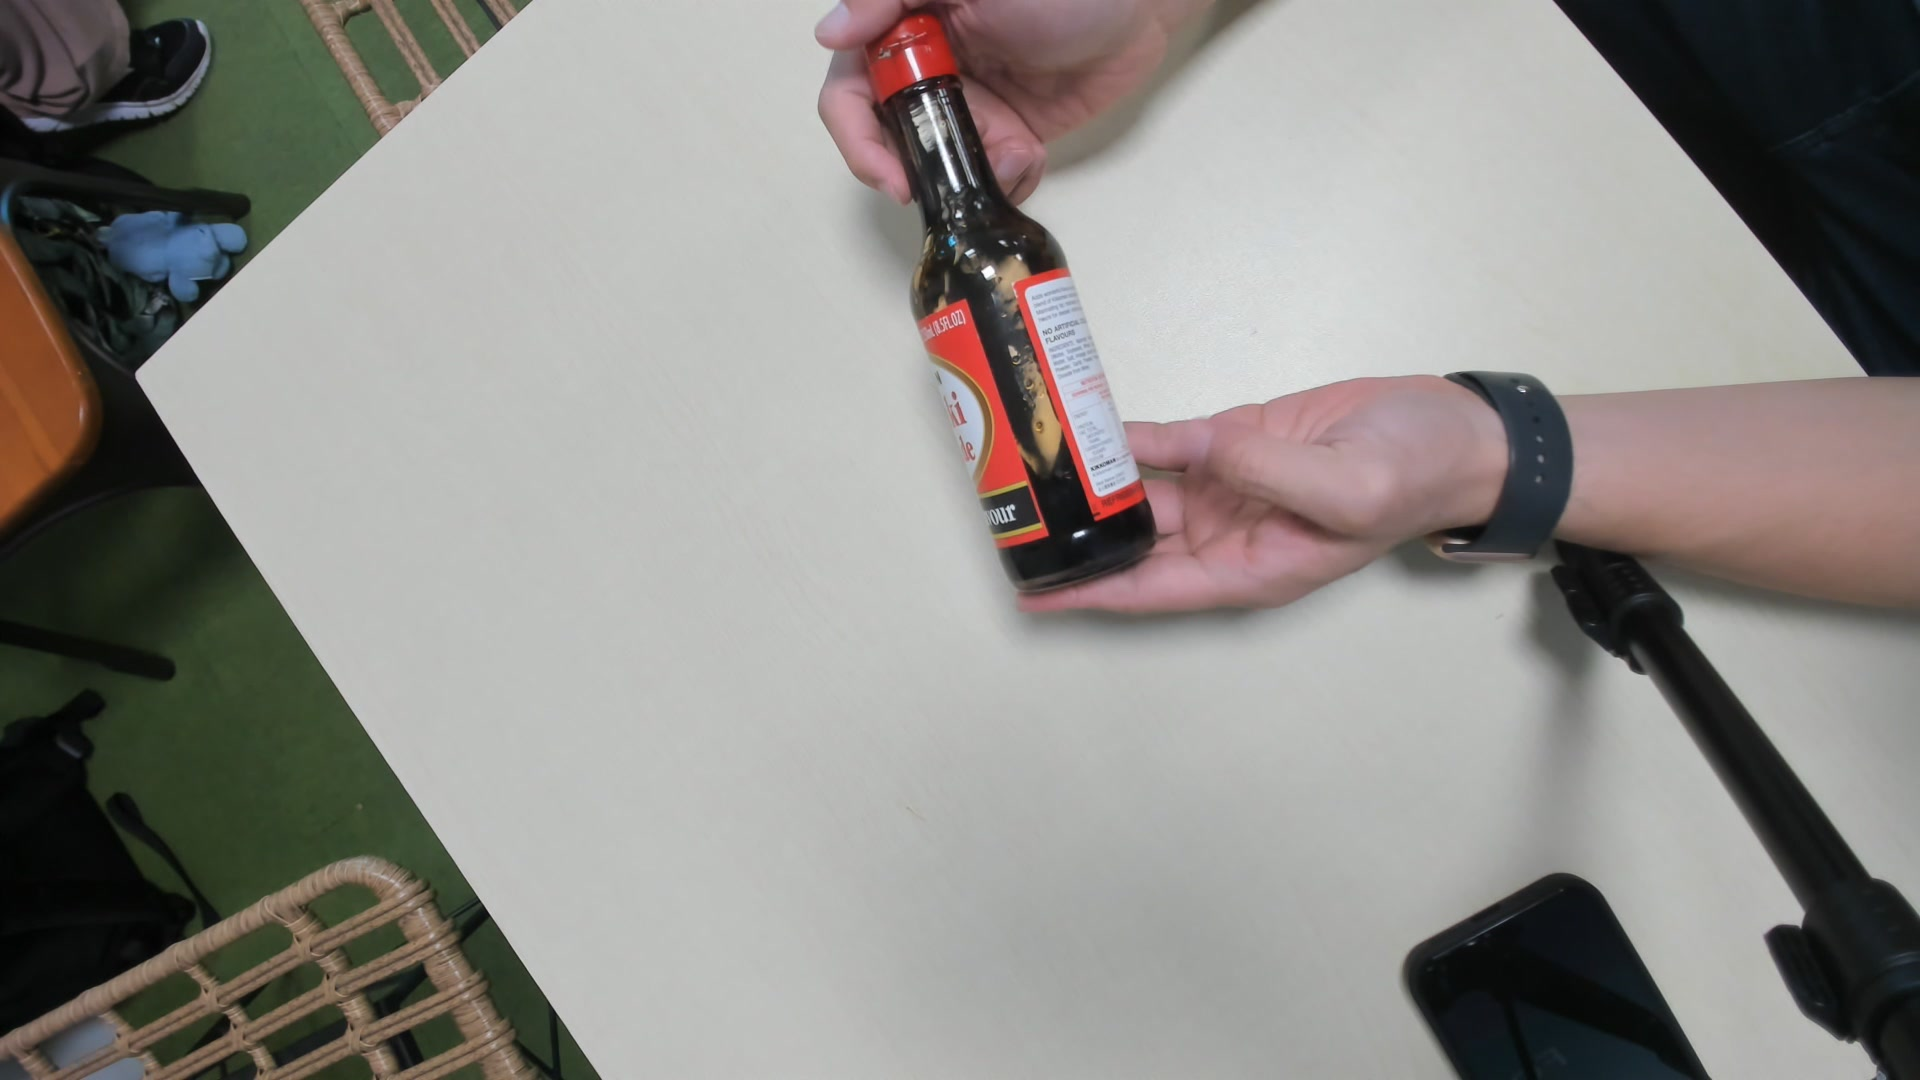OtherSauceDressing_200-299g_NonHalal_NonHealthy: (860, 13, 1160, 597)
